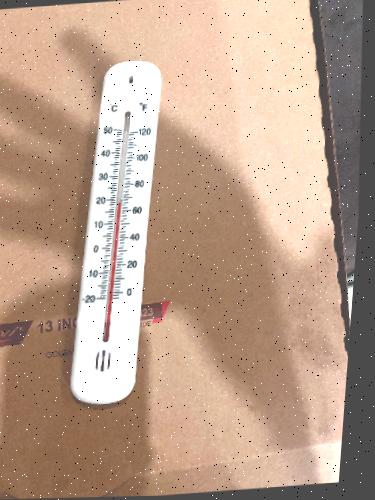thermo: (65, 52, 171, 417)
